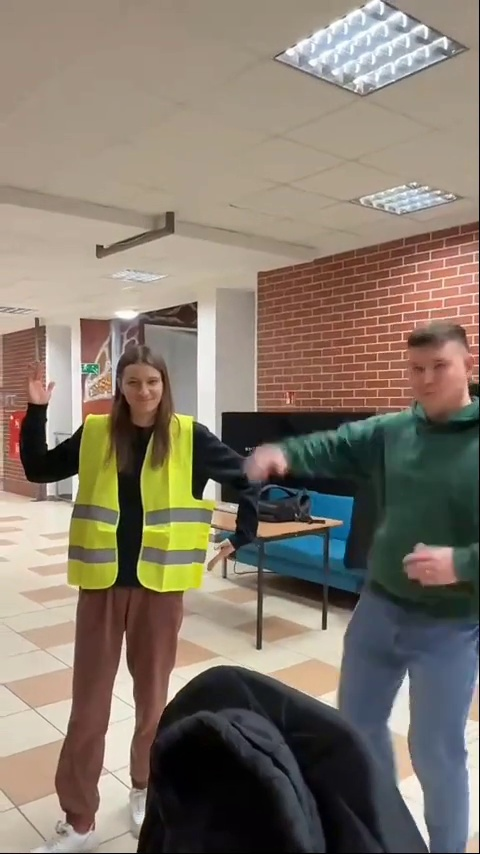no vest: (279, 319, 480, 843)
vest: (21, 344, 257, 830)
